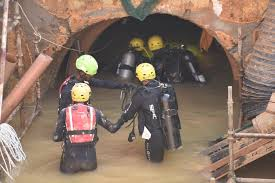helmet: (78, 54, 96, 74), (73, 84, 91, 102), (137, 64, 154, 81), (149, 37, 165, 49), (129, 38, 145, 50)
vest: (66, 109, 95, 142)
